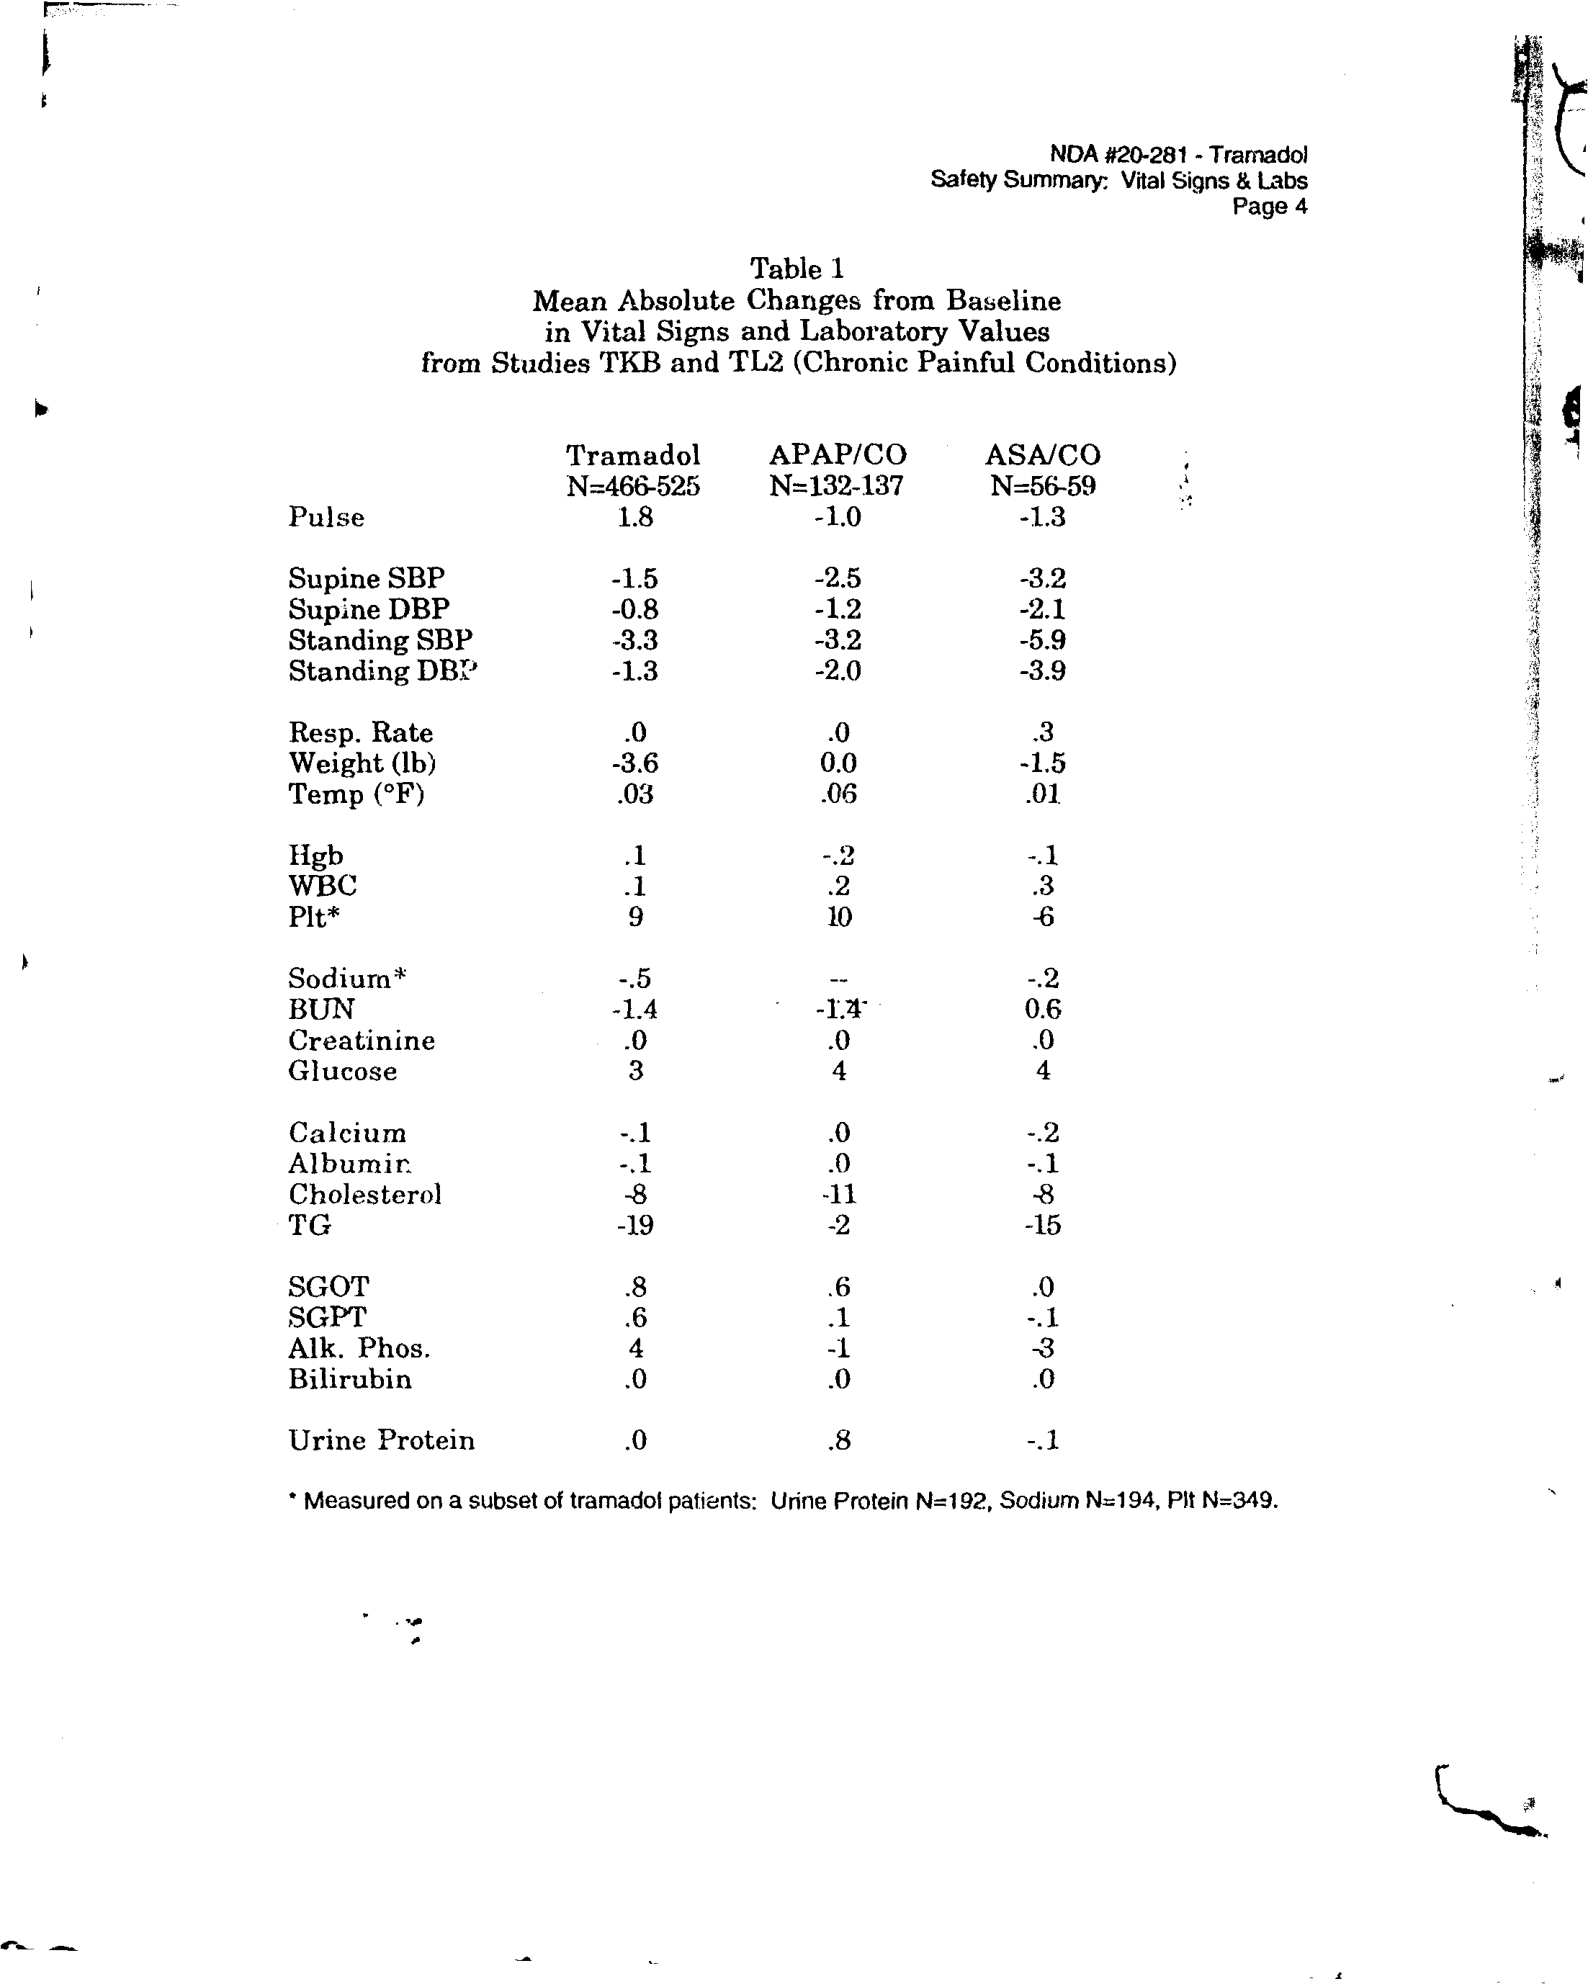nolines: (280, 439, 1103, 1462)
